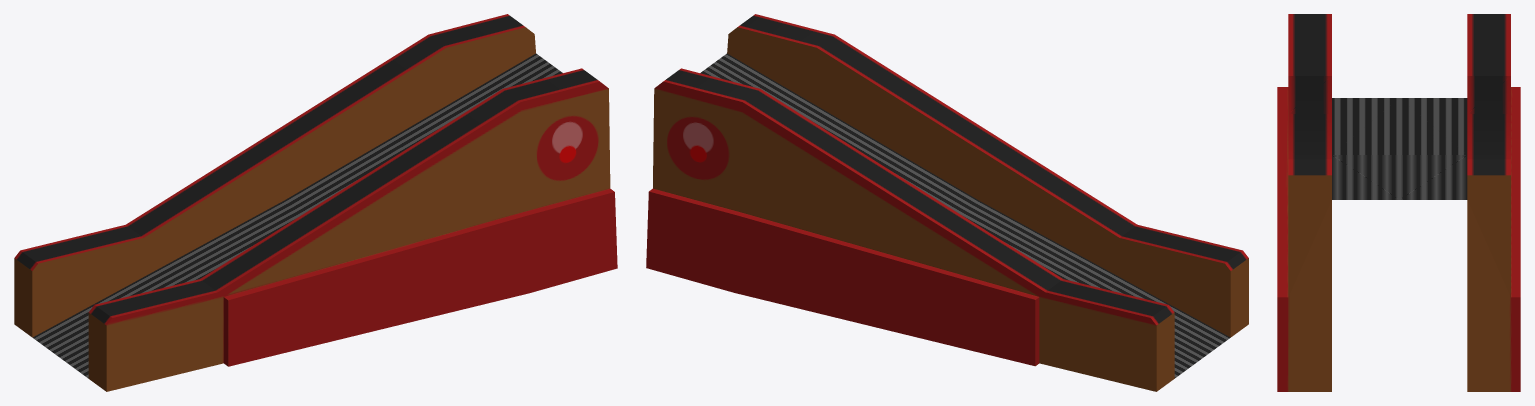
Rendered from EscalatorSteep.fbx.
3 renders of one model, left to right at view 1: azimuth 30°, elevation 25°; view 2: azimuth 150°, elevation 25°; view 3: azimuth 270°, elevation 25°, orthographic. The views are drawn at different scales.
Parts seen in each view (by area): view 1: pPlane2; view 2: pPlane2; view 3: pPlane2.
Part boxes in pixels (box(x1,y1,x2,y2)): pPlane2: box(14, 14, 617, 391); pPlane2: box(646, 14, 1248, 391); pPlane2: box(1277, 14, 1520, 391).
Size of the model in its own units: 15.33 by 5.5 by 5.29.
1 material, 1 textured.
